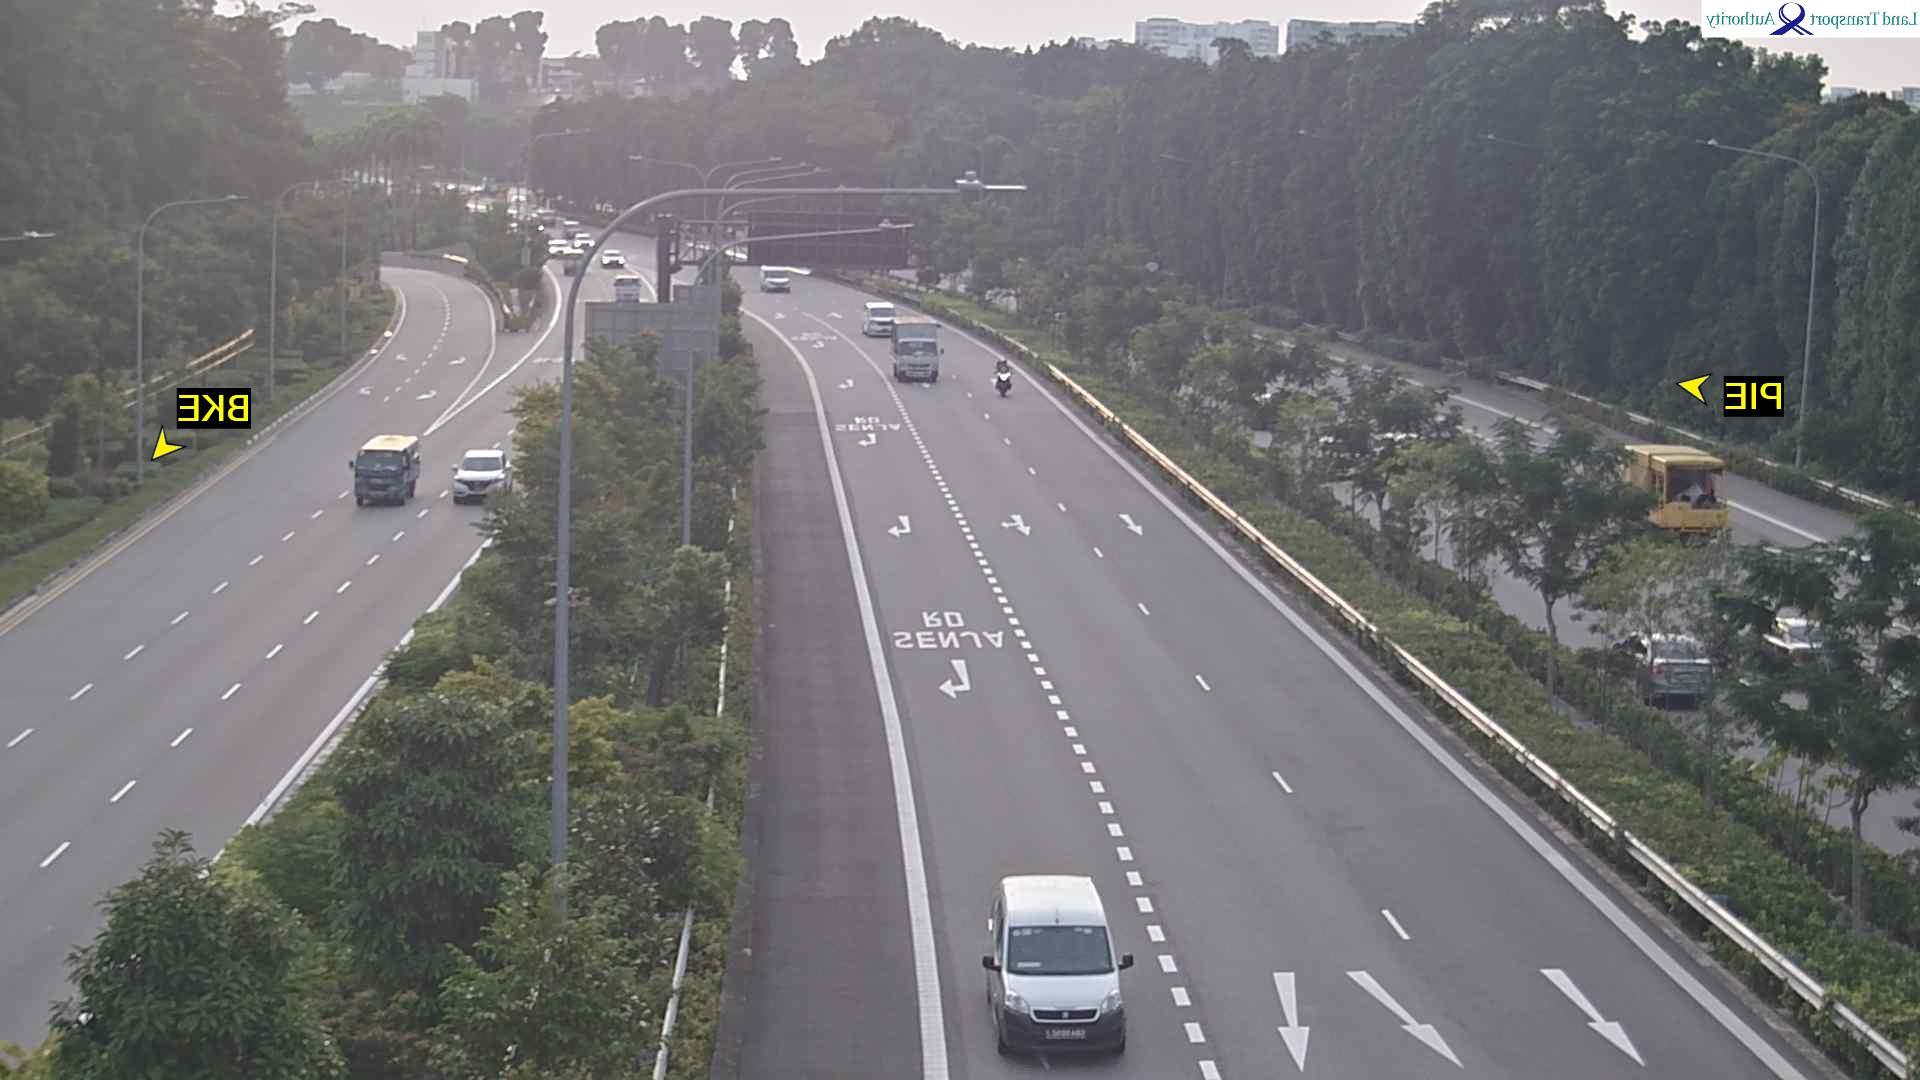incoming: (977, 922, 1135, 1058), (348, 452, 404, 504), (451, 456, 509, 501), (897, 340, 938, 384), (868, 305, 895, 338), (764, 268, 791, 294), (996, 371, 1010, 394)
